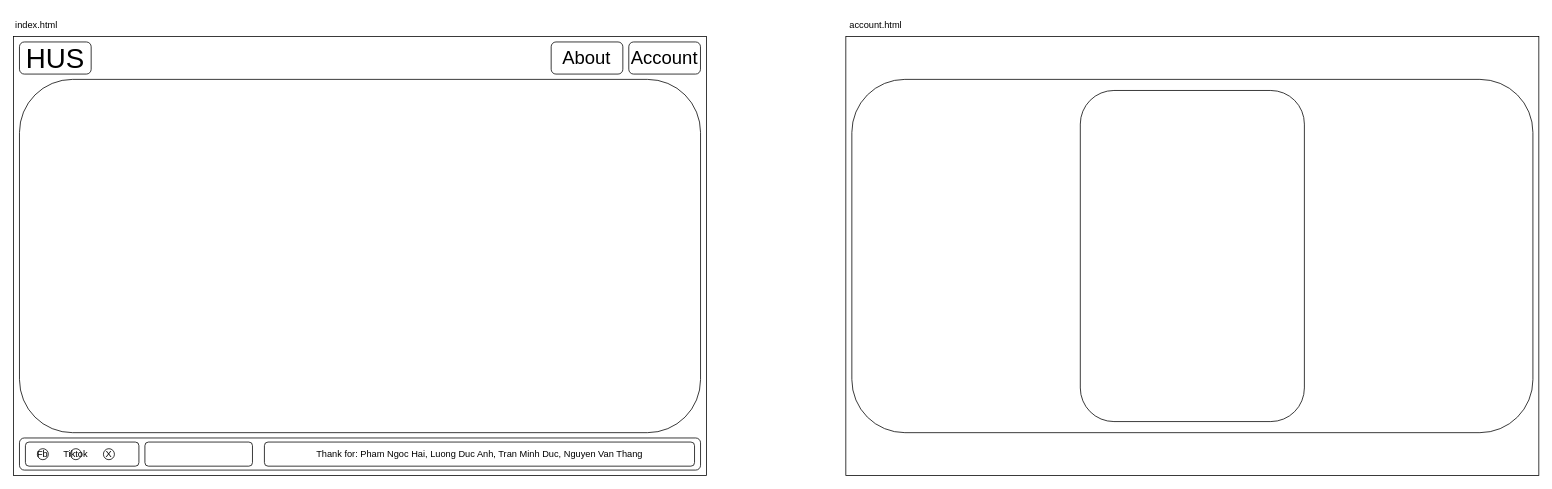
Image size: 1552x489. Some labels were removed from this diagram. Each missing label, with the centre of its shape:
"All right reserved" belongs at point 198,453.
"Login / Register" belongs at point 1192,256.
"Main page" belongs at point 360,256.
